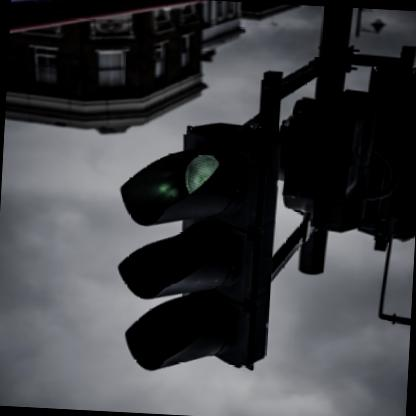trafficlight: (107, 121, 285, 380)
